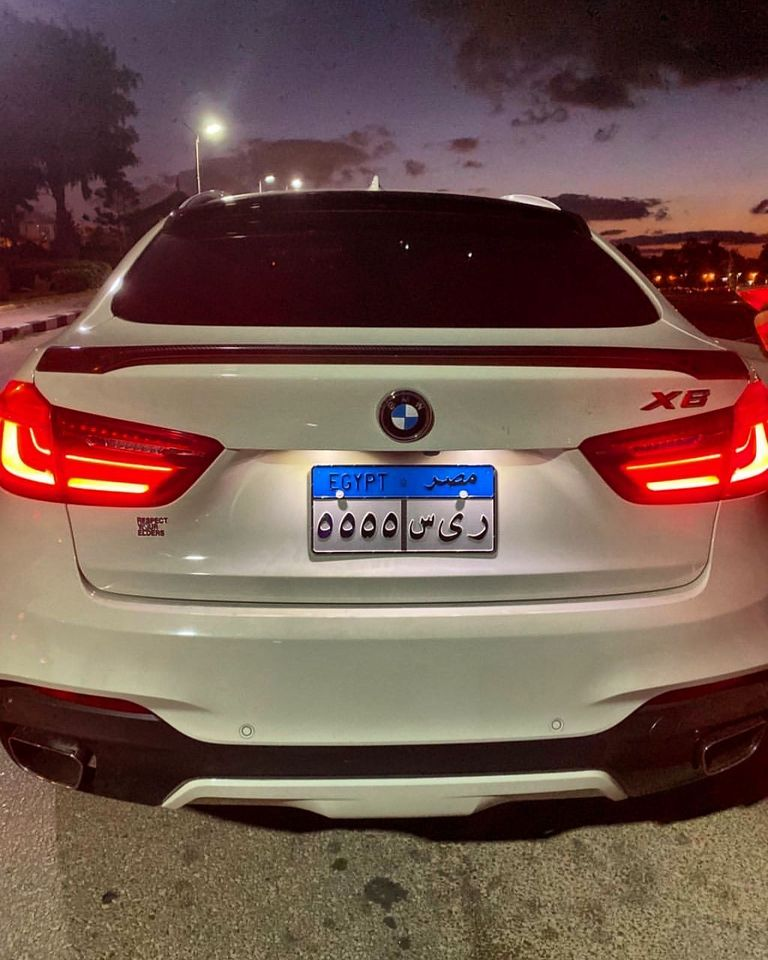carpl: (310, 496, 494, 556)
